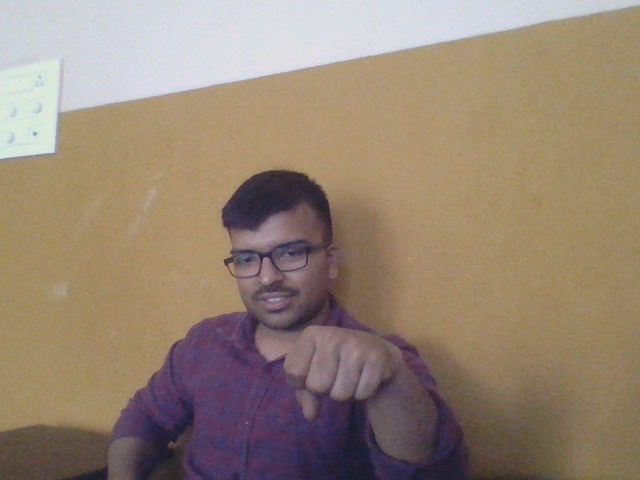Yes: (279, 313, 420, 427)
